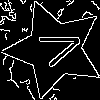V: (29, 24, 86, 72)
